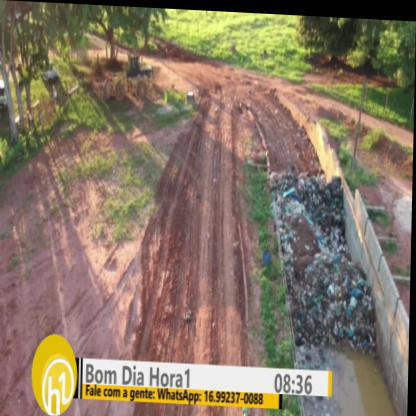agua: (333, 354, 386, 415)
lixo: (291, 252, 374, 340), (277, 172, 340, 246)
